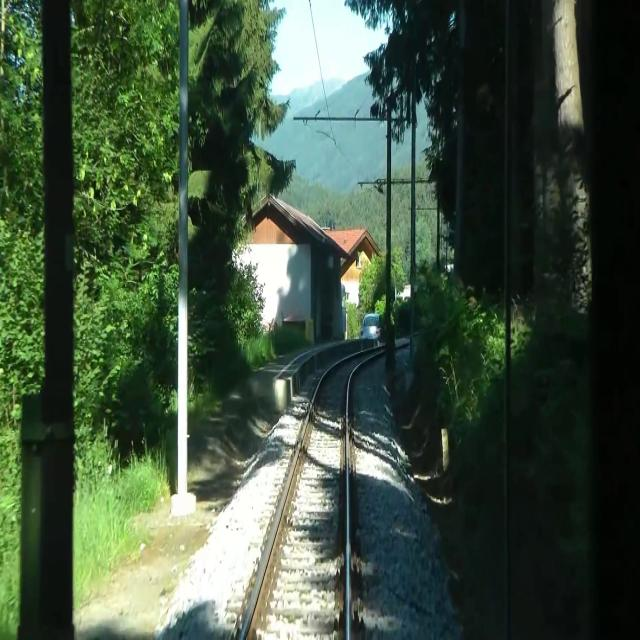rail-track: (244, 349, 380, 639)
